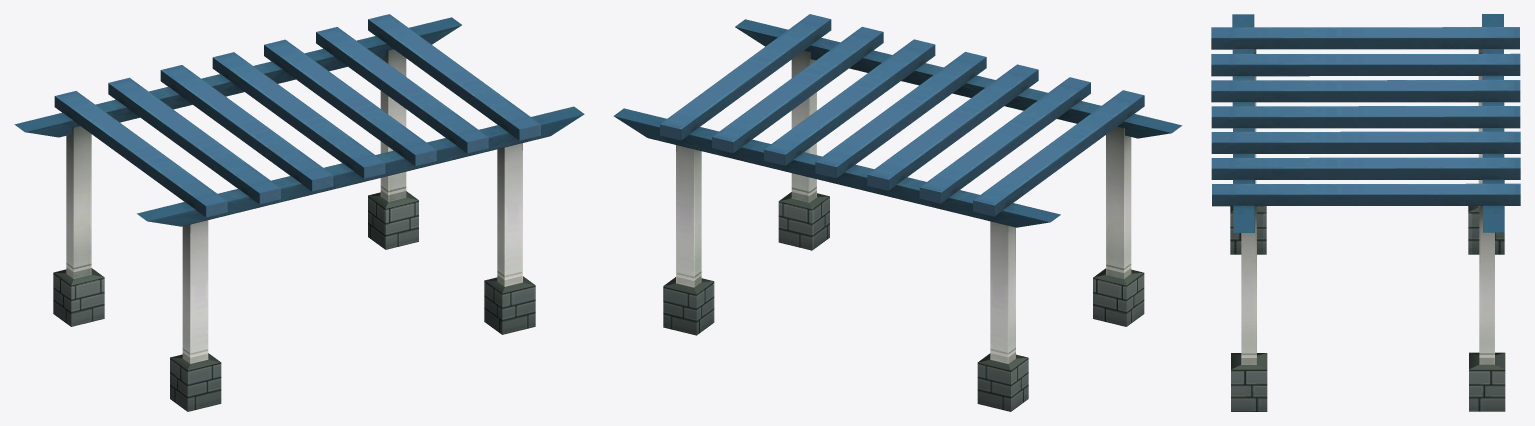
File: furni_0200957.FBX
3 views of the same model, side by side, from view 1: azimuth 30°, elevation 25°; view 2: azimuth 150°, elevation 25°; view 3: azimuth 270°, elevation 25° (orthographic). The views are drawn at different scales.
Parts seen in each view (by area): view 1: furni_0200957; view 2: furni_0200957; view 3: furni_0200957.
Boxes of the visible parts, x1,y1,x2,y2 form: furni_0200957: (14,14,584,411); furni_0200957: (613,14,1182,411); furni_0200957: (1211,14,1520,411).
Bounding box in the file's own units: 583 × 267 × 348.
Materials: 1 (1 with a texture image).
